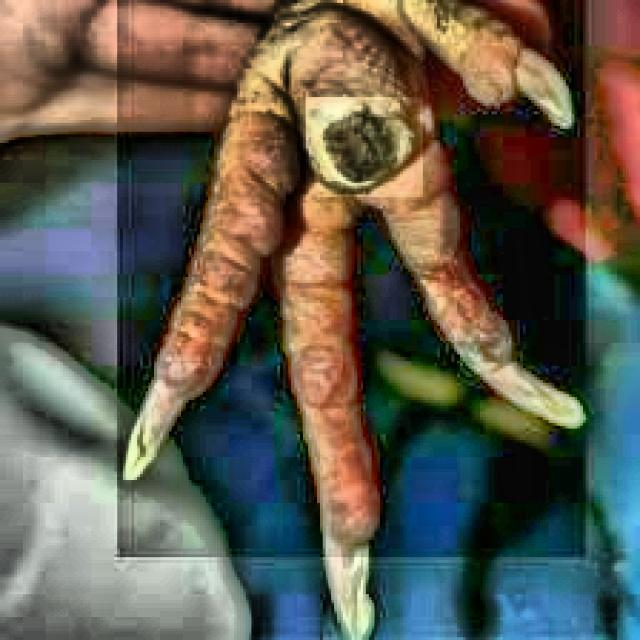Bumble foot: (296, 87, 442, 205)
